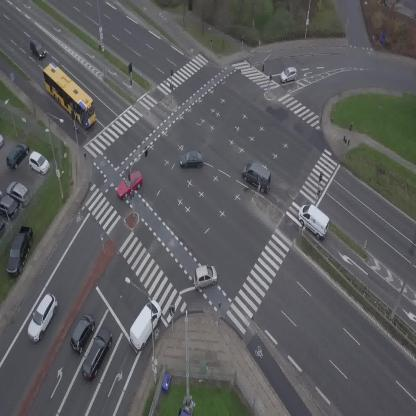bus: (34, 60, 105, 131)
car: (77, 325, 117, 383), (22, 292, 62, 344), (65, 311, 100, 355), (112, 168, 147, 201), (191, 263, 220, 291), (26, 37, 48, 62), (180, 151, 204, 168), (279, 66, 298, 84)
lorry: (123, 297, 167, 352), (292, 199, 336, 241), (237, 158, 278, 196)
